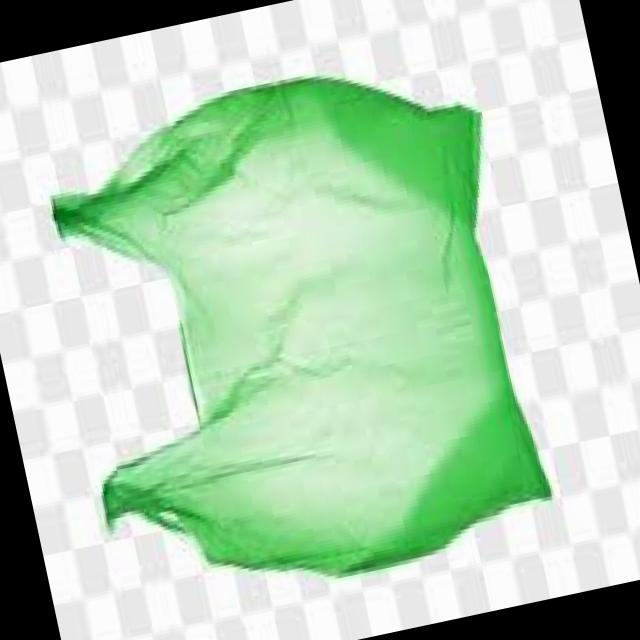plastic: (52, 77, 551, 578)
